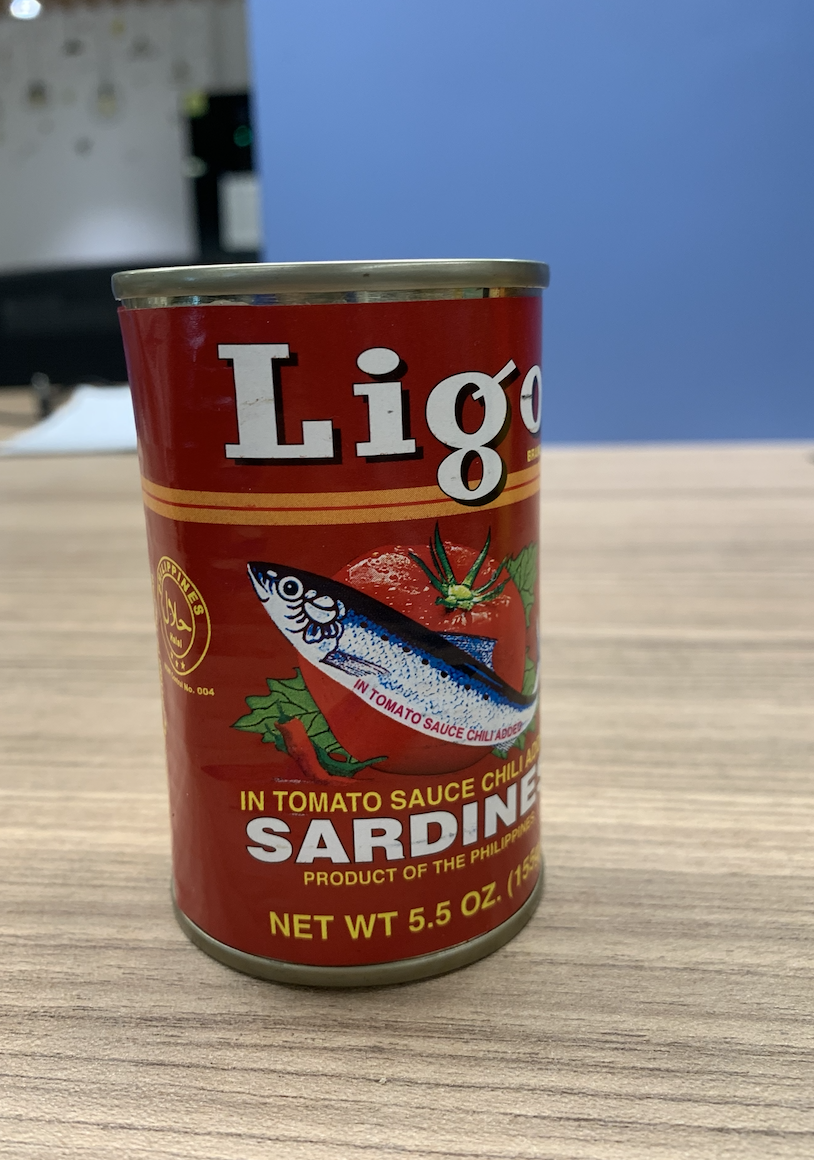sardines_150g: (158, 274, 548, 943)
